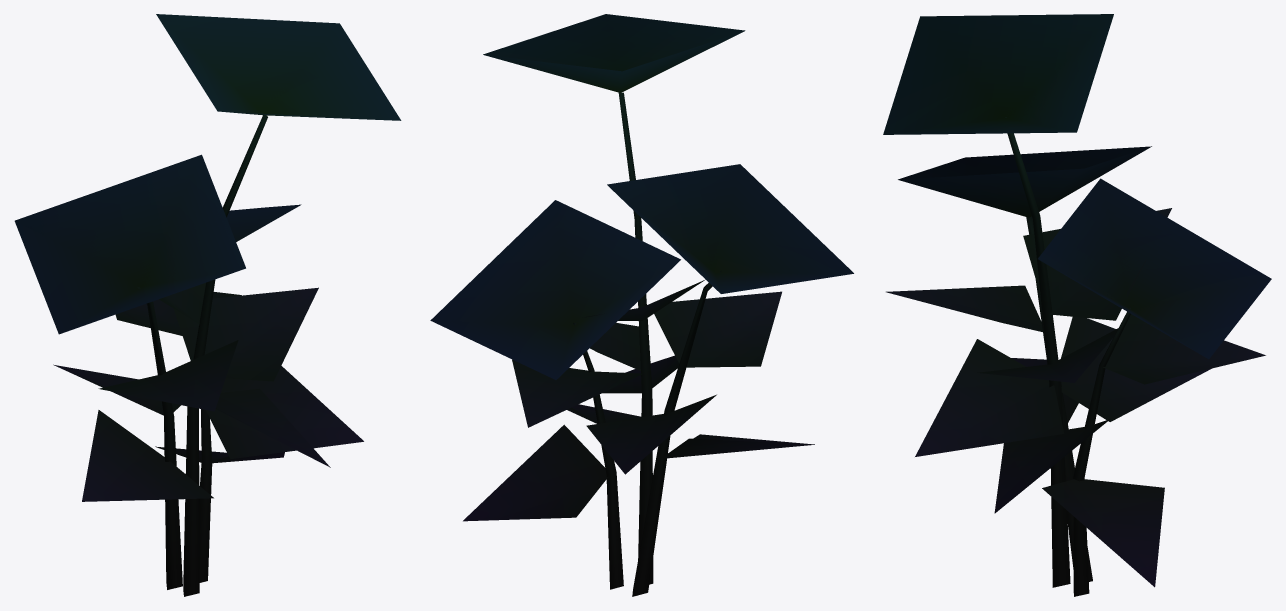
The model's file is TSI_Flower_Patch_02B.fbx.
3 views of the same model, side by side, from view 1: azimuth 30°, elevation 25°; view 2: azimuth 150°, elevation 25°; view 3: azimuth 270°, elevation 25° (orthographic). The views are drawn at different scales.
Parts seen in each view (by area): view 1: TSI_Flower_Patch_02B_LOD0; view 2: TSI_Flower_Patch_02B_LOD0; view 3: TSI_Flower_Patch_02B_LOD0.
Part boxes in pixels (bbox=[...]): TSI_Flower_Patch_02B_LOD0: bbox=[14, 14, 401, 596]; TSI_Flower_Patch_02B_LOD0: bbox=[430, 14, 853, 596]; TSI_Flower_Patch_02B_LOD0: bbox=[883, 14, 1271, 596].
Size of the model in its own units: 51.71 by 82.33 by 51.17.
